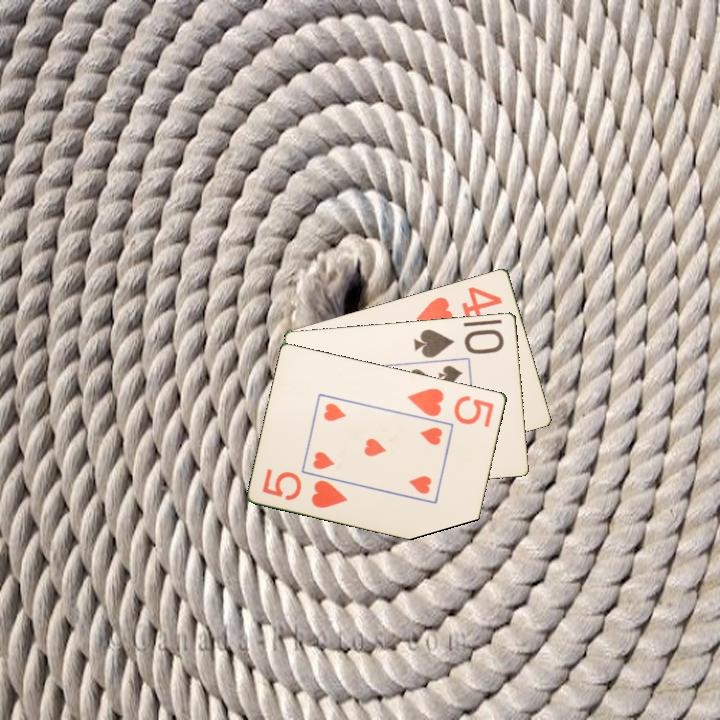10s: (410, 325, 507, 360)
4h: (413, 283, 505, 328)
5h: (404, 384, 497, 430), (259, 465, 351, 511)
